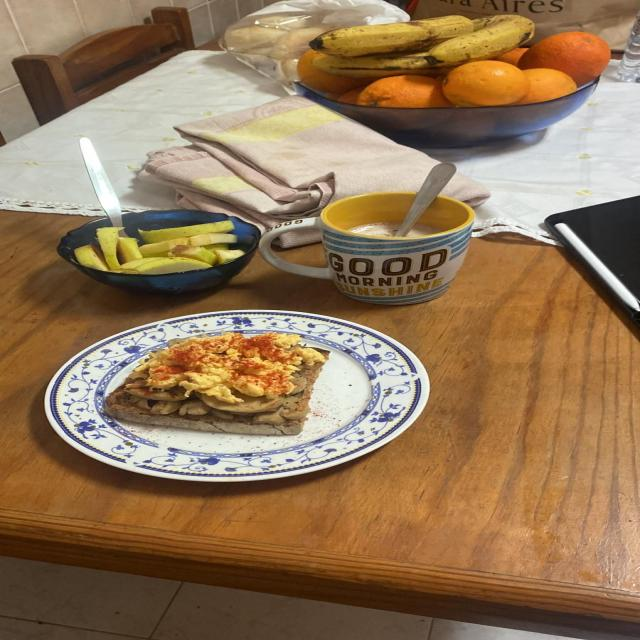bowl: (57, 139, 260, 294)
bread: (104, 350, 329, 436)
coffee: (348, 222, 398, 237), (409, 226, 430, 238)
coffee cup: (317, 192, 475, 305)
fork: (79, 138, 124, 228)
pineapple: (69, 219, 253, 276)
plate: (44, 310, 430, 482)
scrambled eggs: (135, 333, 324, 405)
spoon: (393, 163, 456, 236)
